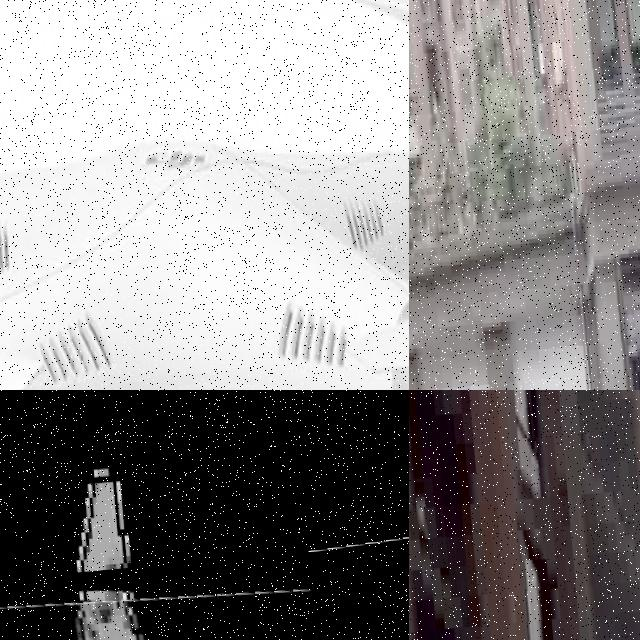drone: (0, 0, 409, 390), (0, 536, 409, 640)
